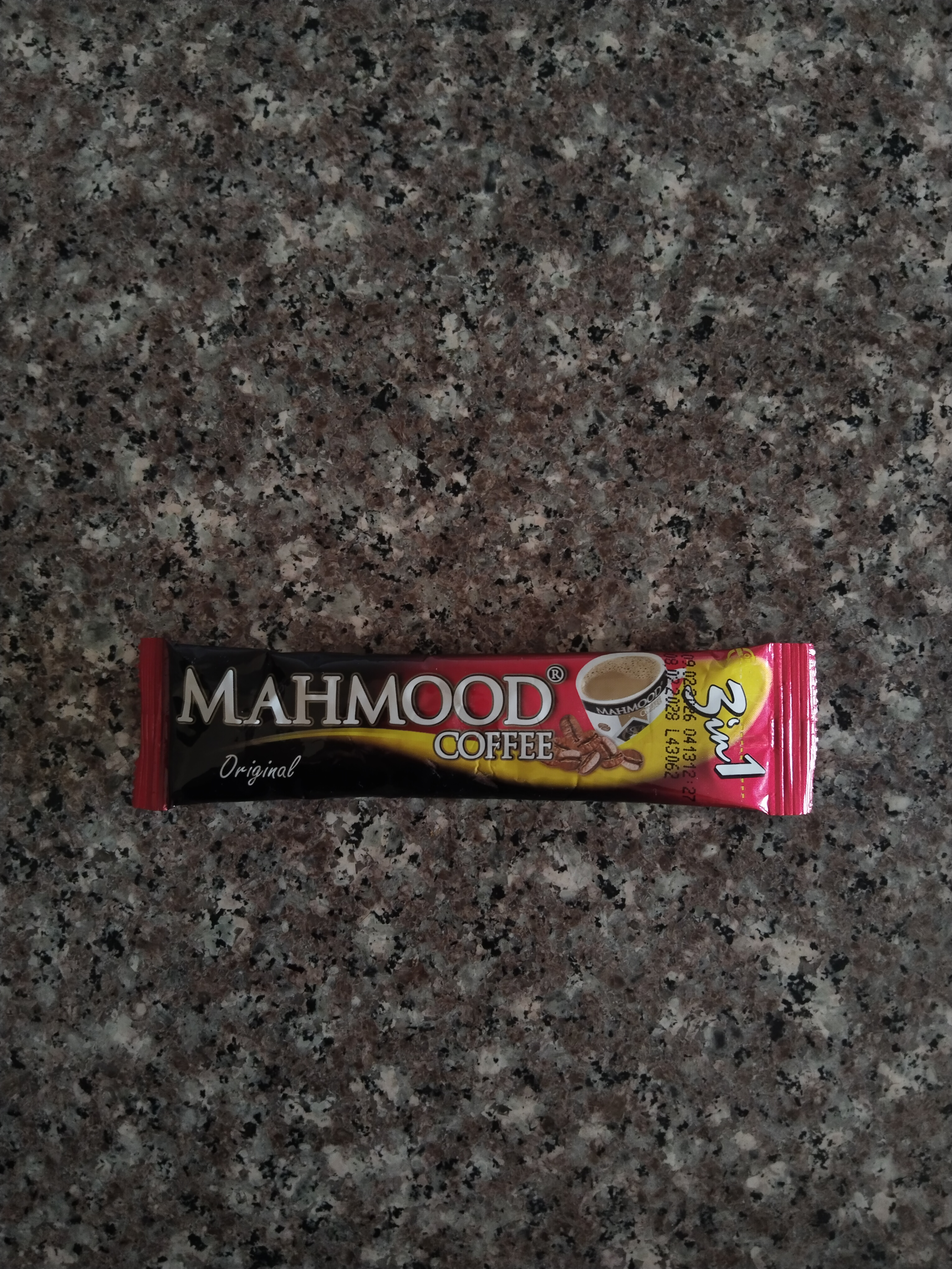mahmood_kahve: (132, 634, 813, 816)
